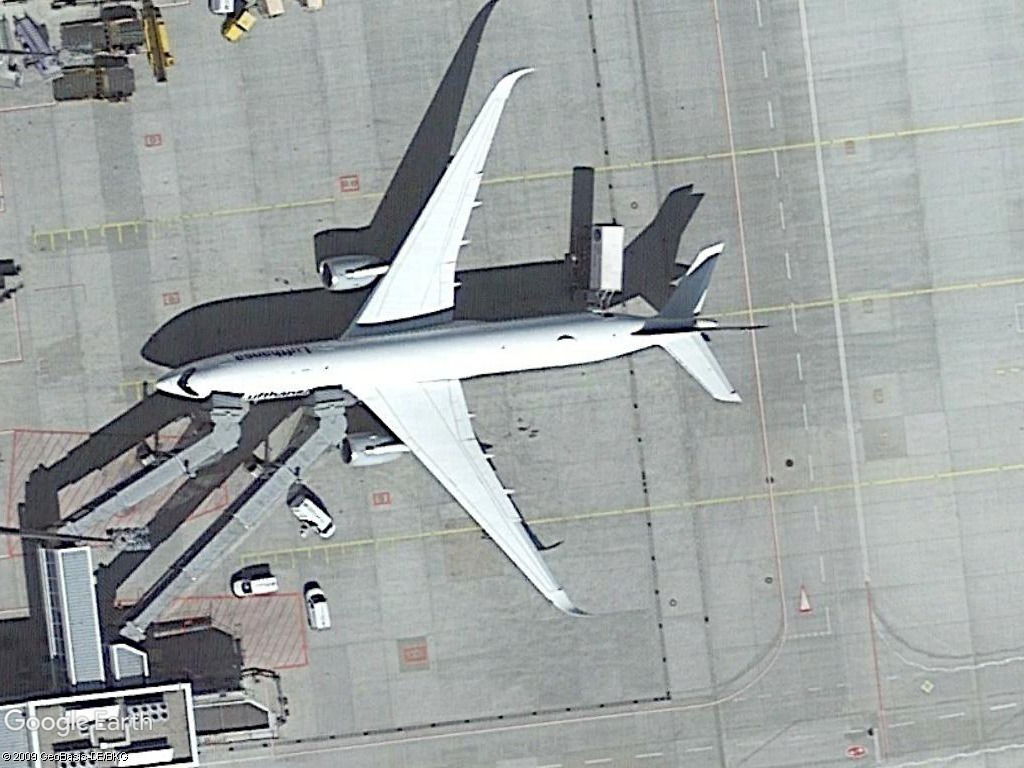airliner: (143, 59, 751, 631)
van: (292, 493, 340, 543), (303, 584, 336, 638), (230, 574, 280, 602)
